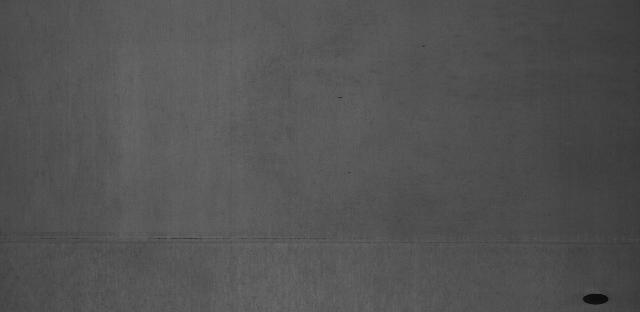punching_hole: (578, 285, 618, 310)
welding_line: (8, 232, 640, 255)
